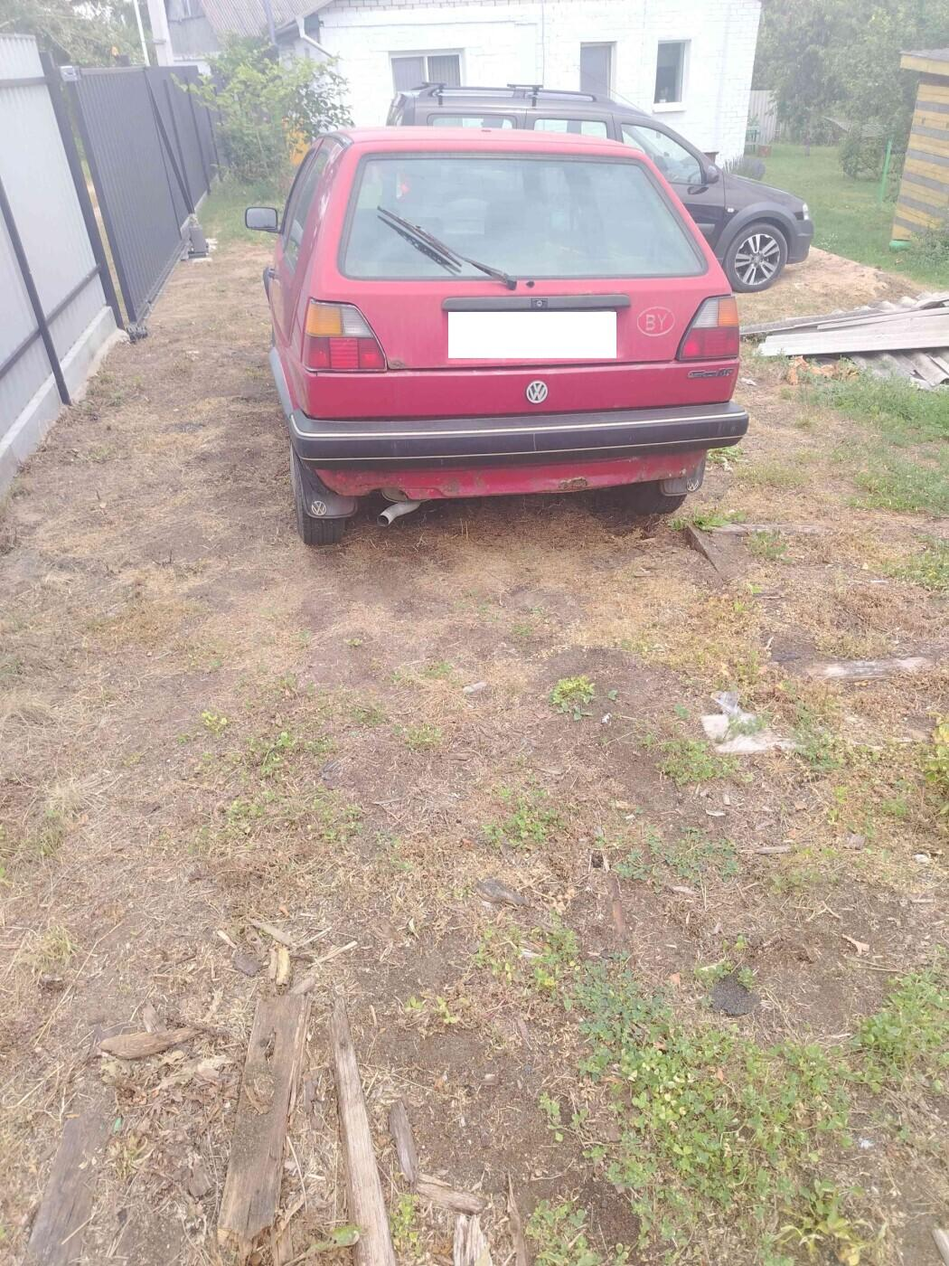Golf_1983-1992: (242, 128, 754, 548)
